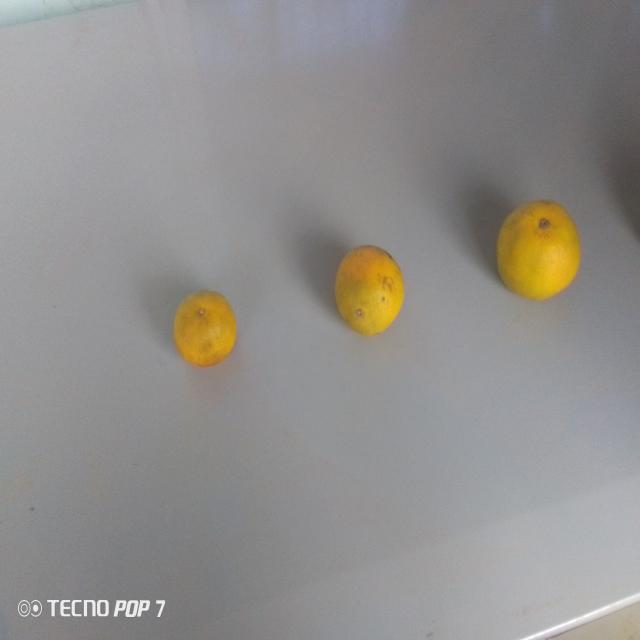Ripe orange: (494, 196, 584, 307), (330, 234, 408, 342), (167, 284, 245, 372)
